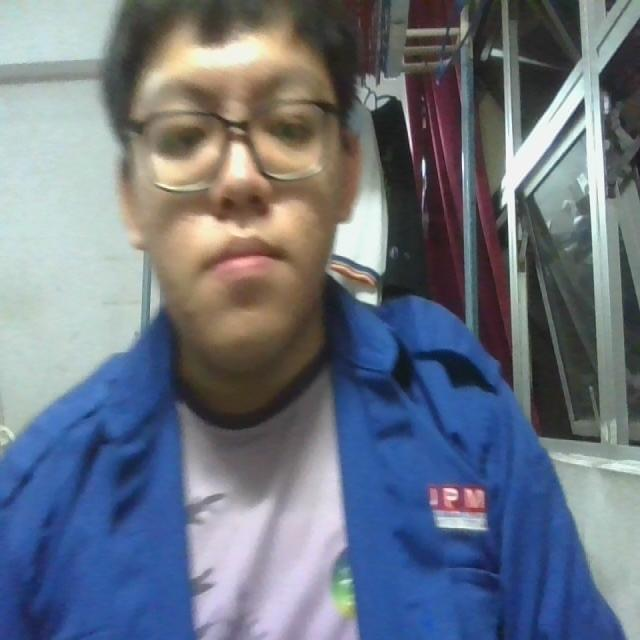person_with_labcoat: (0, 0, 625, 639)
